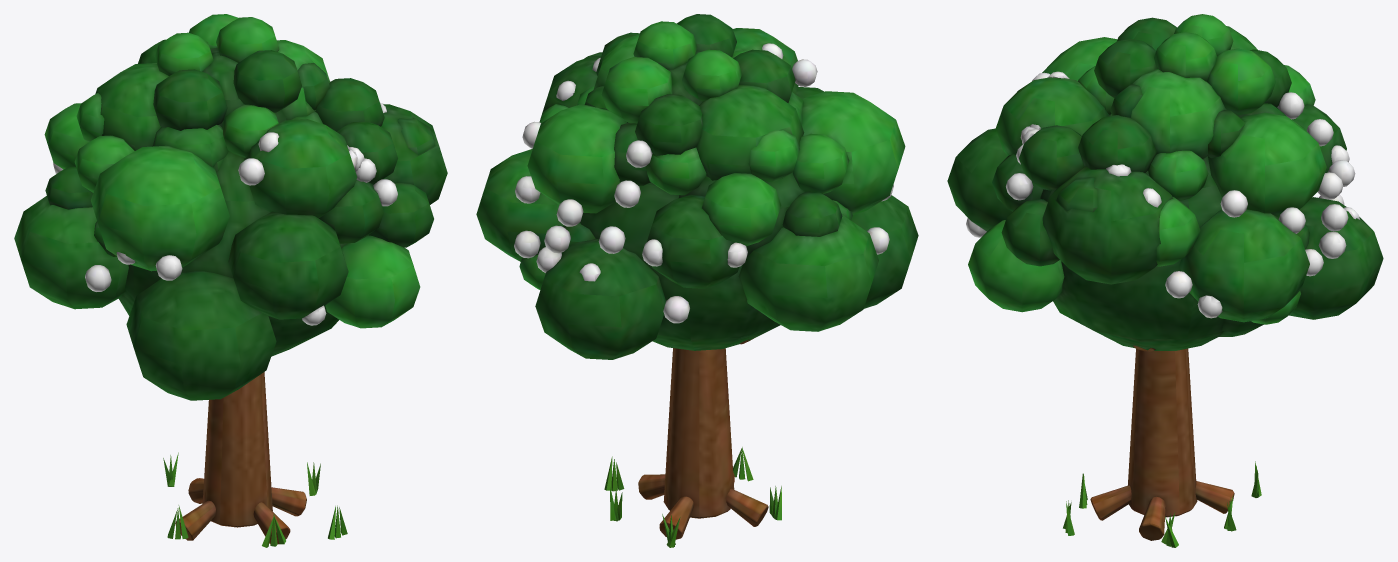
The model's file is bergamot_tree.glb.
3 views of the same model, side by side, from view 1: azimuth 30°, elevation 25°; view 2: azimuth 150°, elevation 25°; view 3: azimuth 270°, elevation 25° (orthographic).
Visible parts, largest first — view 1: crown, bergamot_tree; view 2: crown, bergamot_tree; view 3: crown, bergamot_tree.
Boxes of the visible parts, x1,y1,x2,y2 form: crown: (14,14,447,400); bergamot_tree: (163,372,347,547); crown: (476,14,918,359); bergamot_tree: (604,337,781,547); crown: (947,14,1383,350); bergamot_tree: (1063,345,1261,547).
Bounding box in the file's own units: 1.09 × 1.37 × 1.11.
1 material, 1 textured.
